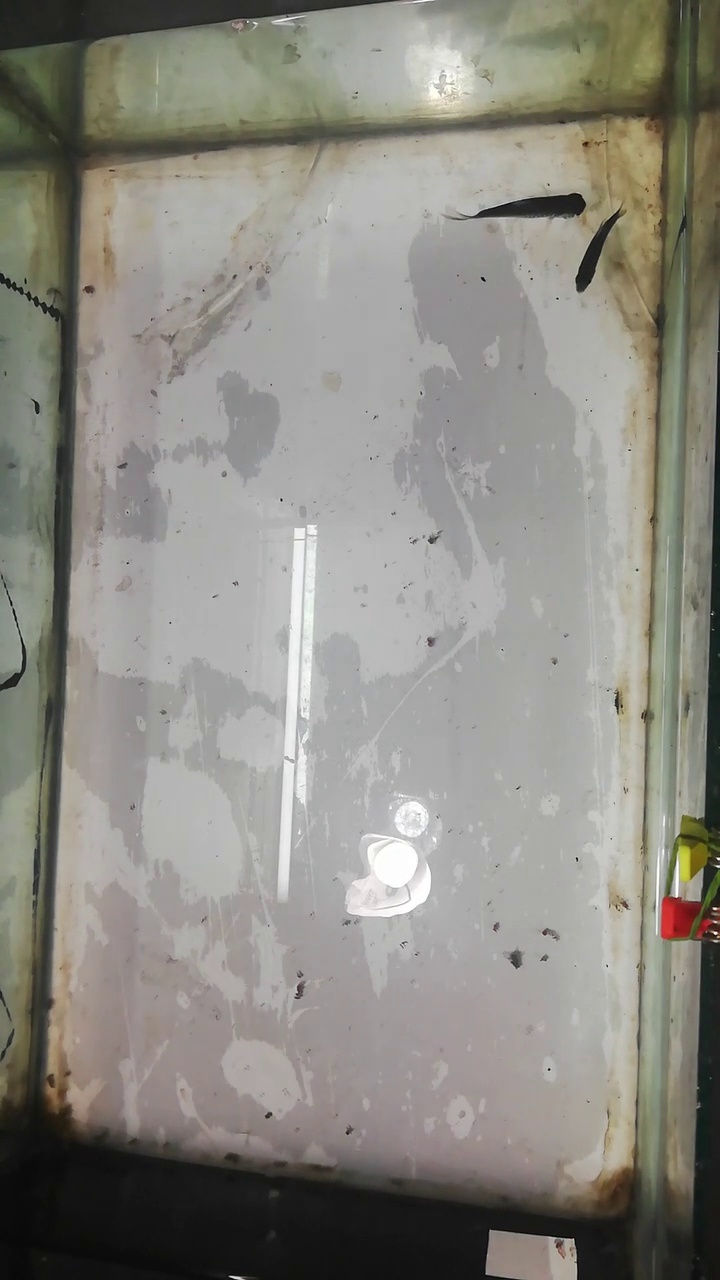fish1: (450, 191, 584, 221)
fish2: (576, 203, 618, 292)
